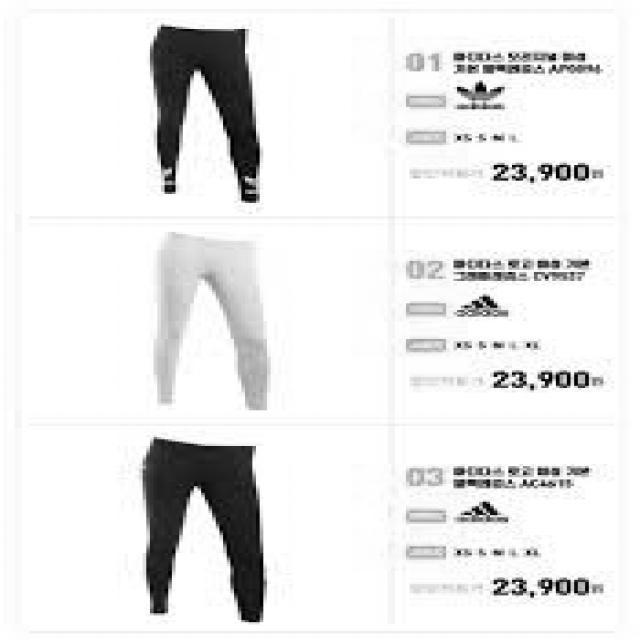Adidas: (450, 78, 520, 100)
